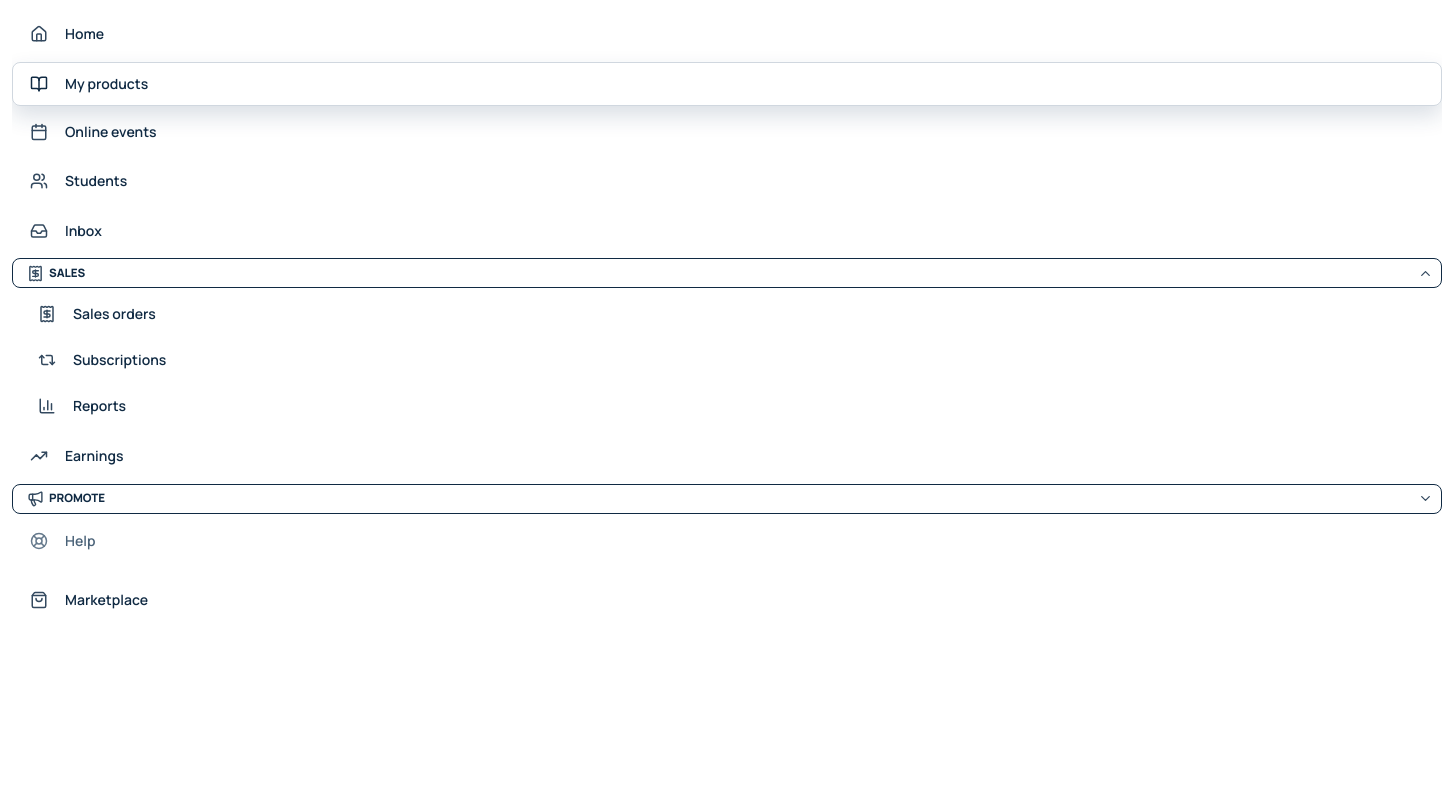
it: creator shell regressions › fecha um grupo ao clicar nele de novo
Click the button "Sales".
click(67, 273)  # box 12,258 -> 1442,288
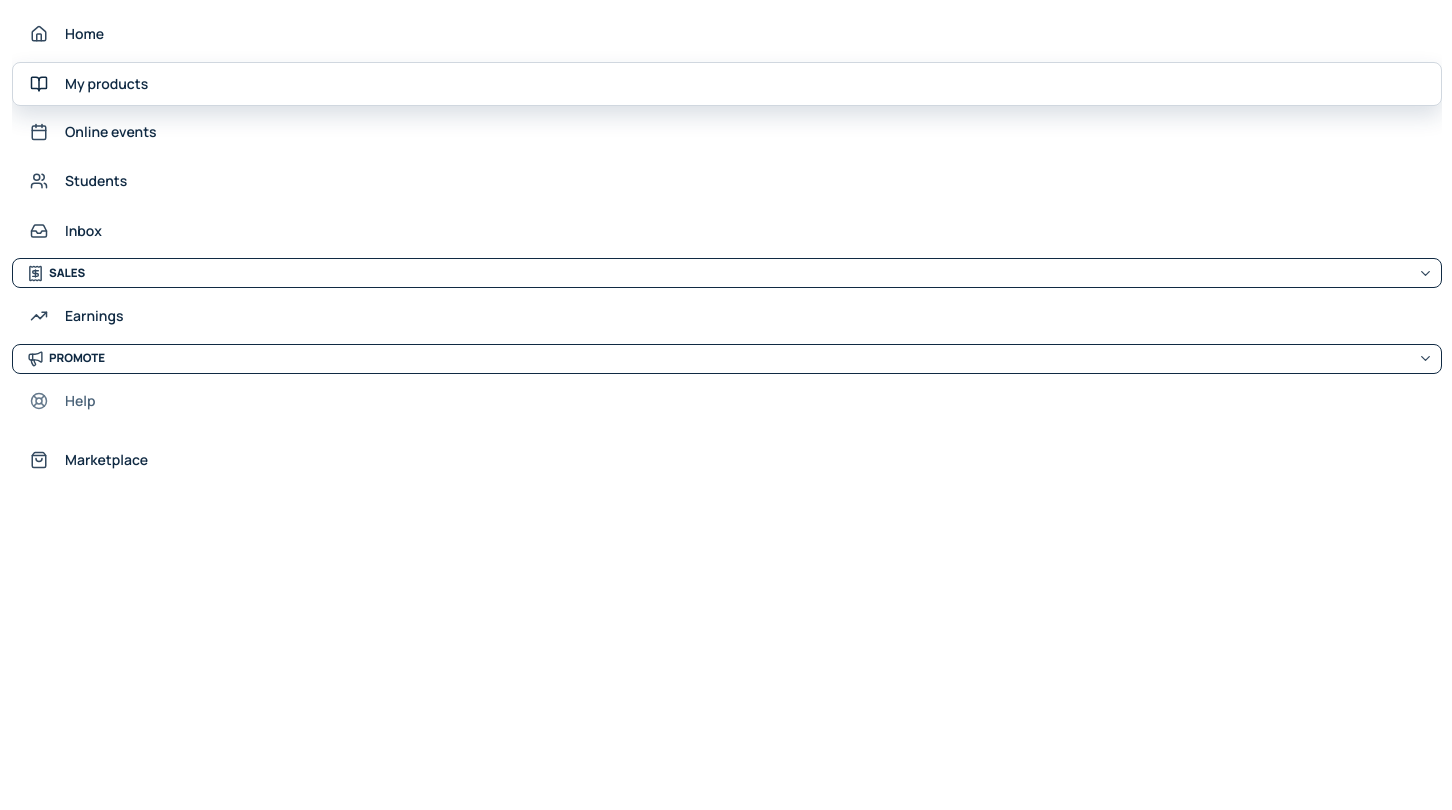
Now the button "Sales" is collapsed, box 12,258 -> 1442,288
Now the link "Subscriptions" is gone
